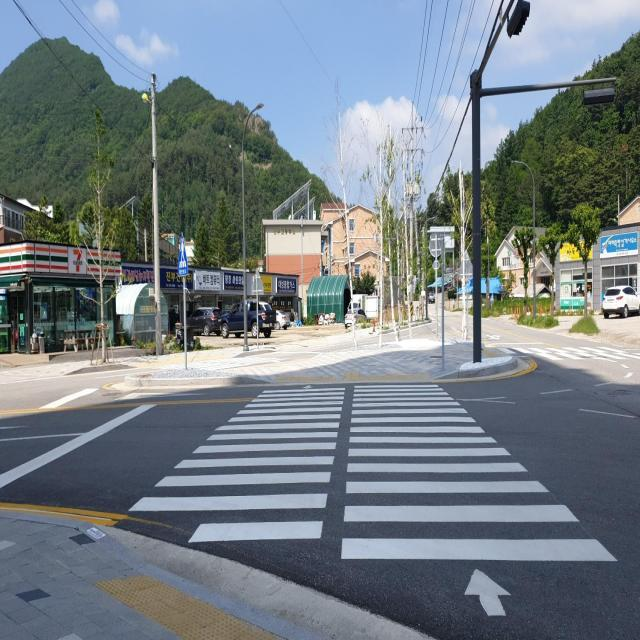횡단보도: (126, 383, 620, 620), (520, 348, 638, 360)
